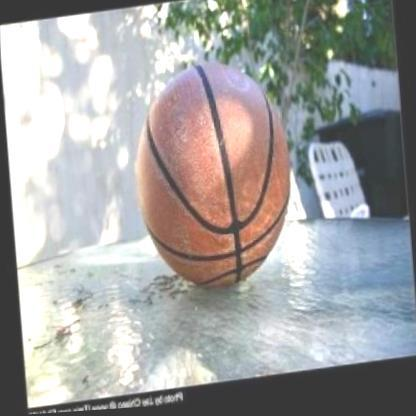basketball: (120, 50, 306, 316)
